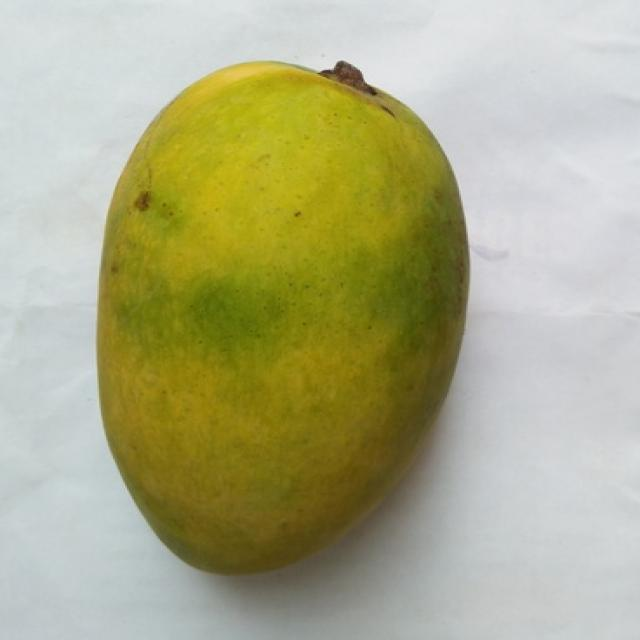Mango: (97, 63, 466, 572)
